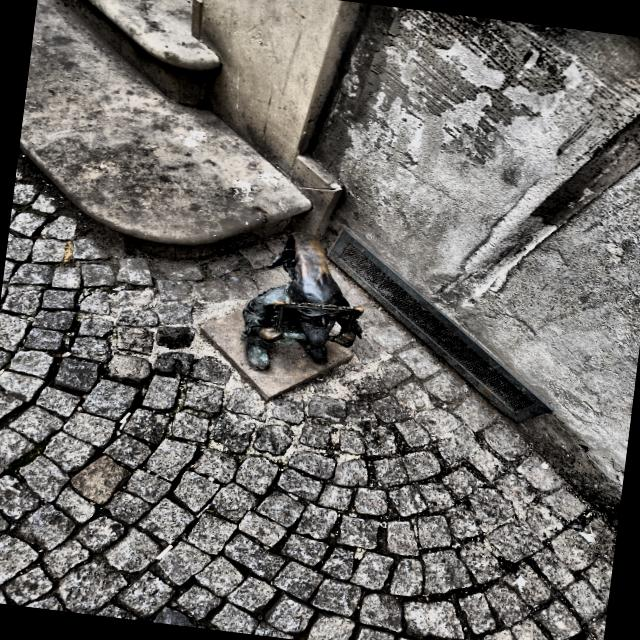Galeriusz: (242, 231, 362, 370)
